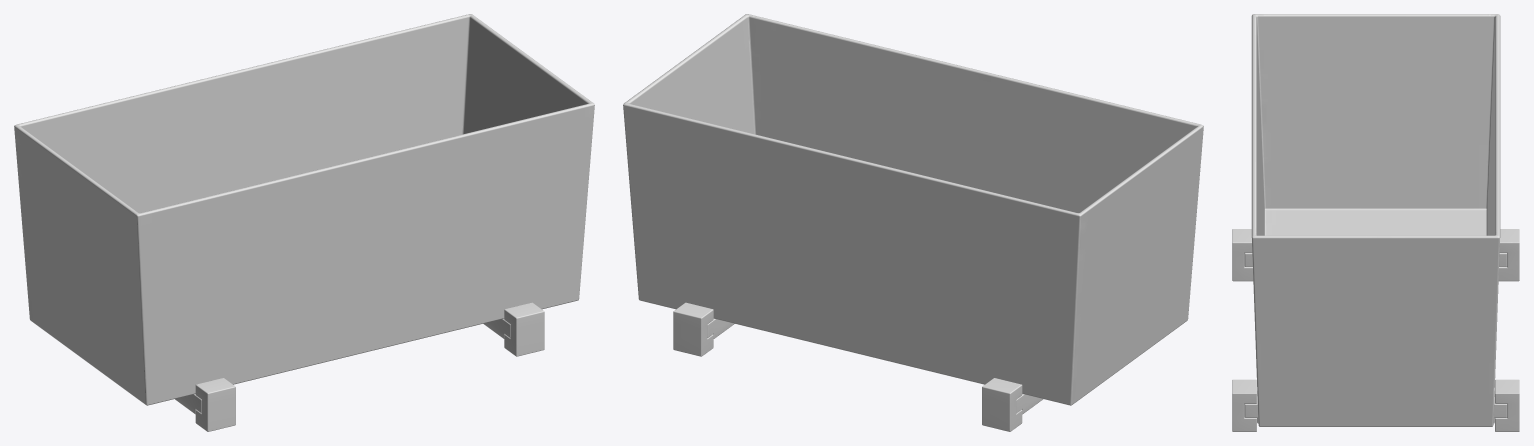
The model's file is plant_small.glb.
The picture shows the model from 3 angles, left to right: view 1: azimuth 30°, elevation 25°; view 2: azimuth 150°, elevation 25°; view 3: azimuth 270°, elevation 25°; orthographic projection.
Visible parts, largest first — view 1: Pot; view 2: Pot; view 3: Pot.
Boxes of the visible parts, left/top/right/bottom form: Pot: left=14, top=14, right=594, bottom=431; Pot: left=623, top=14, right=1203, bottom=431; Pot: left=1232, top=14, right=1519, bottom=431.
Bounding box in the file's own units: 0.3201 × 0.15 × 0.1739.
Materials: 2 (2 with a texture image).
